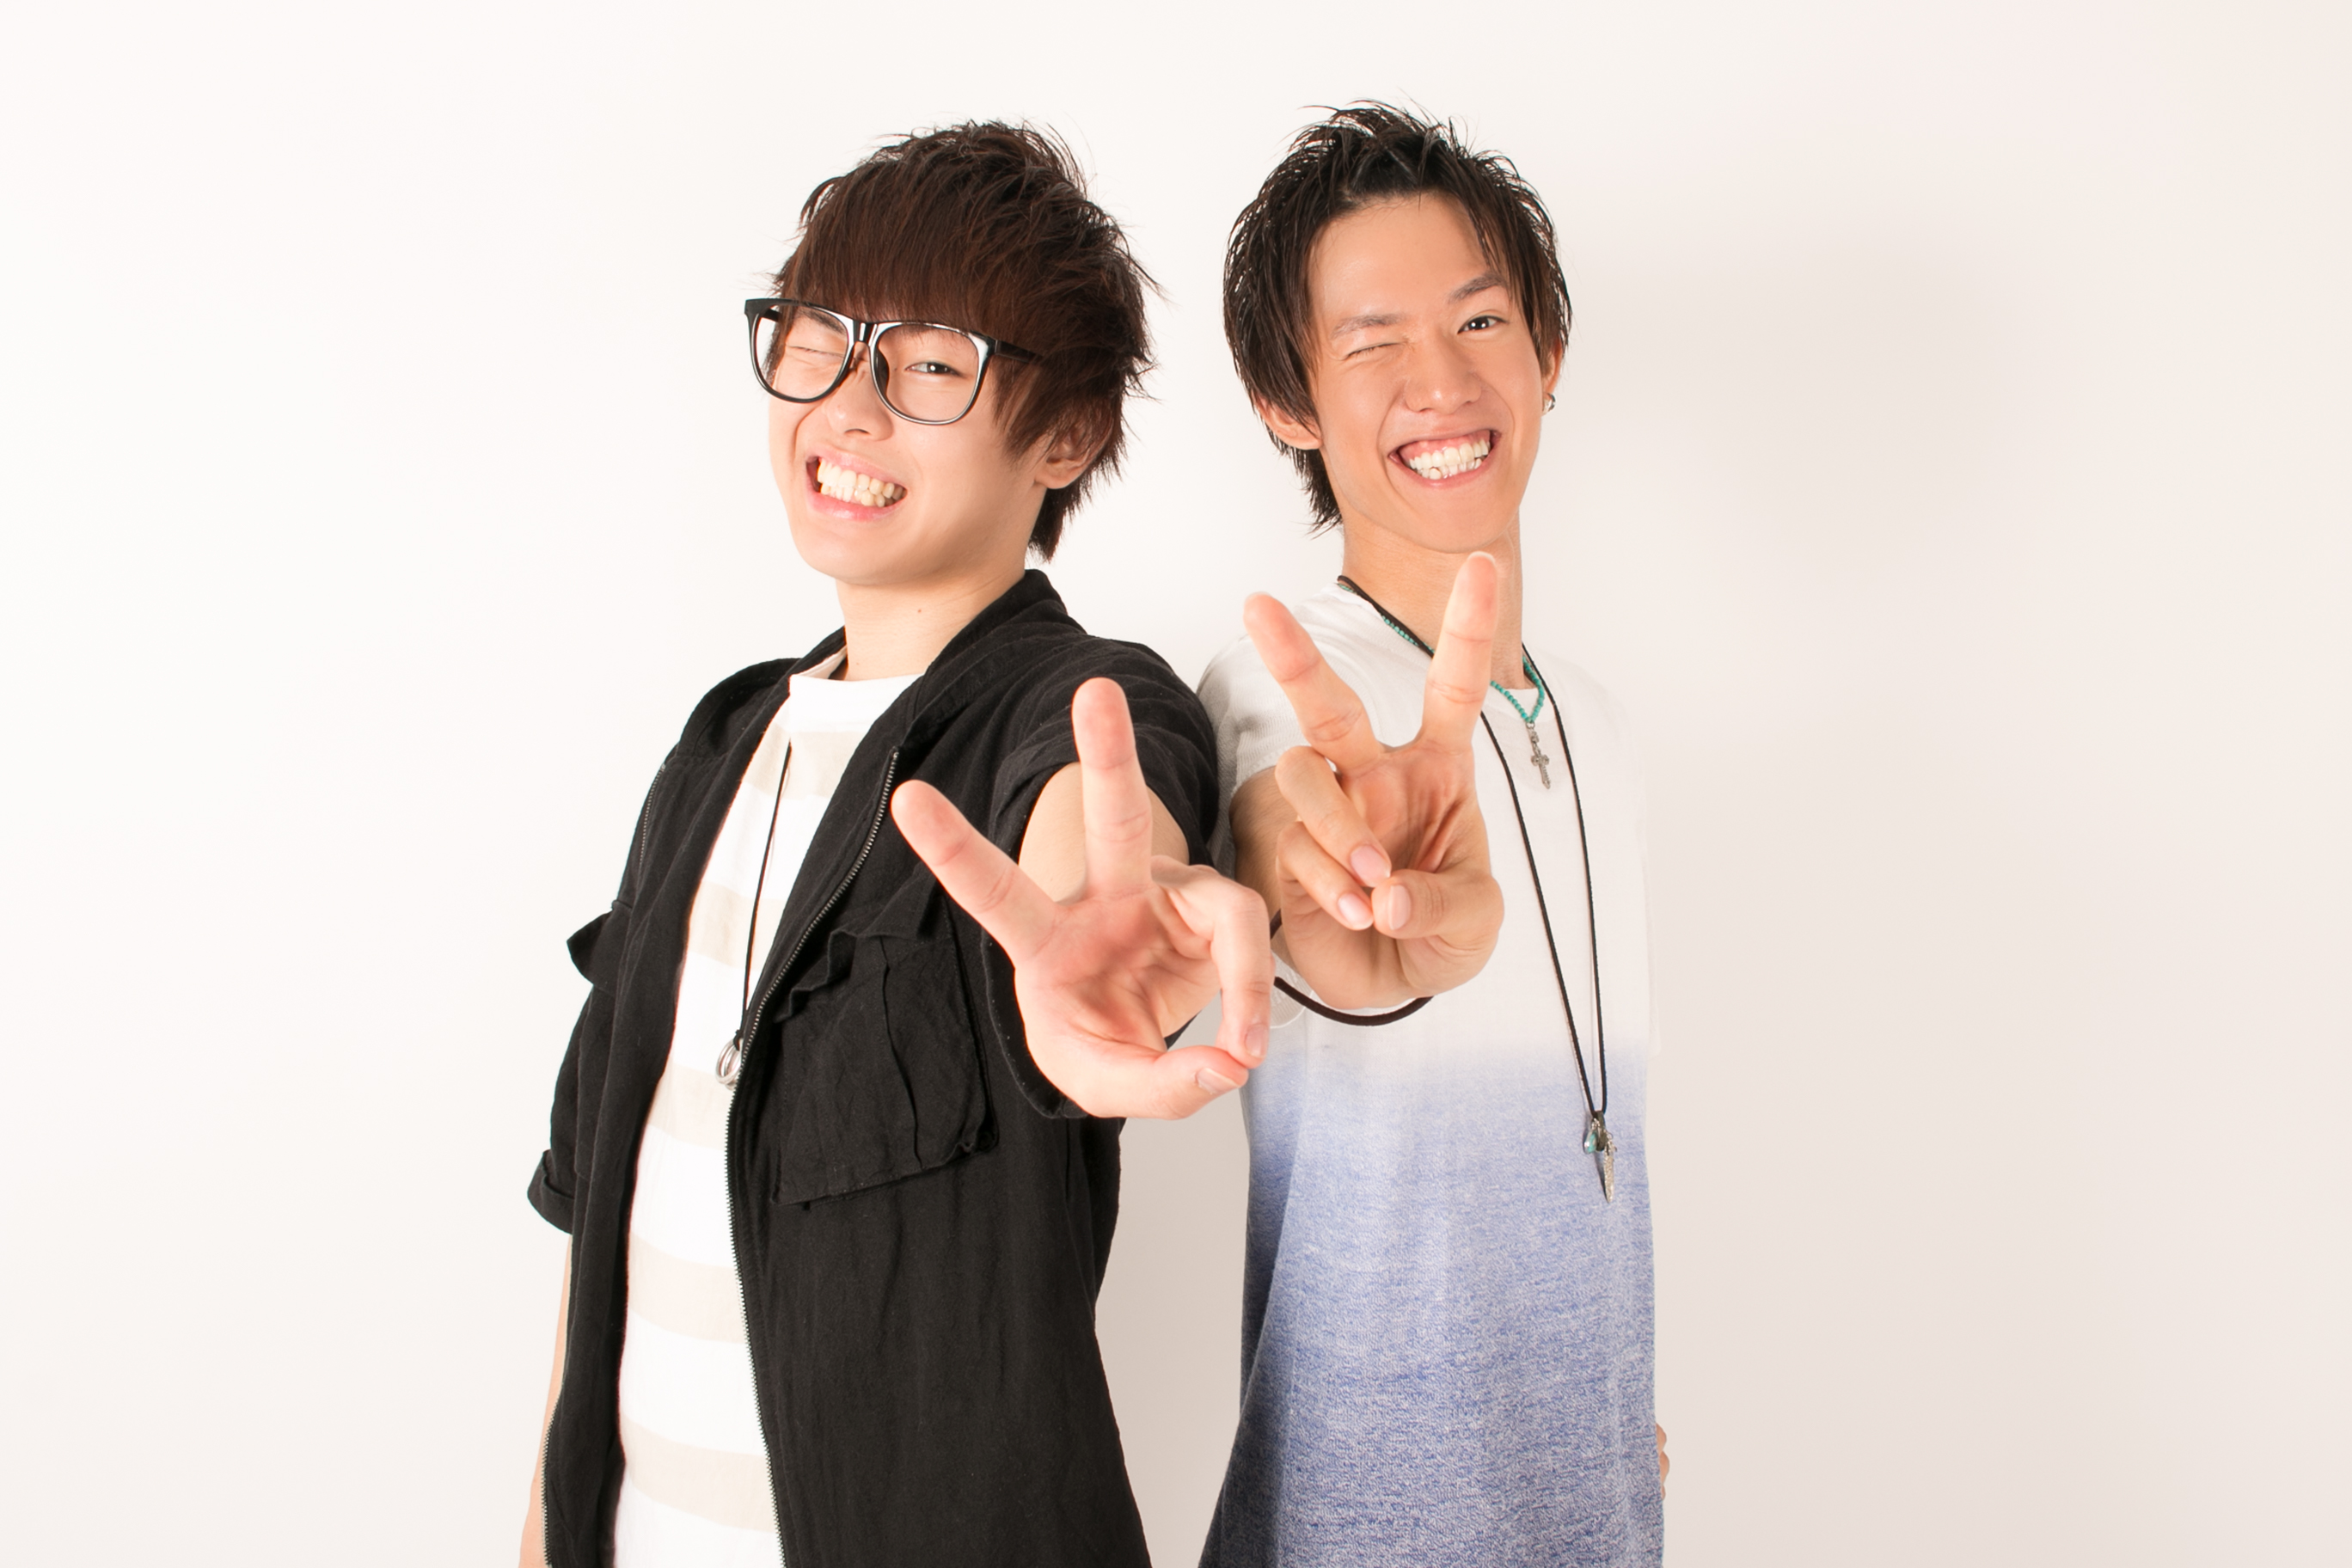face: (1265, 186, 1564, 547), (761, 291, 1110, 593)
hand: (893, 679, 1279, 1124), (1230, 545, 1510, 1011)
